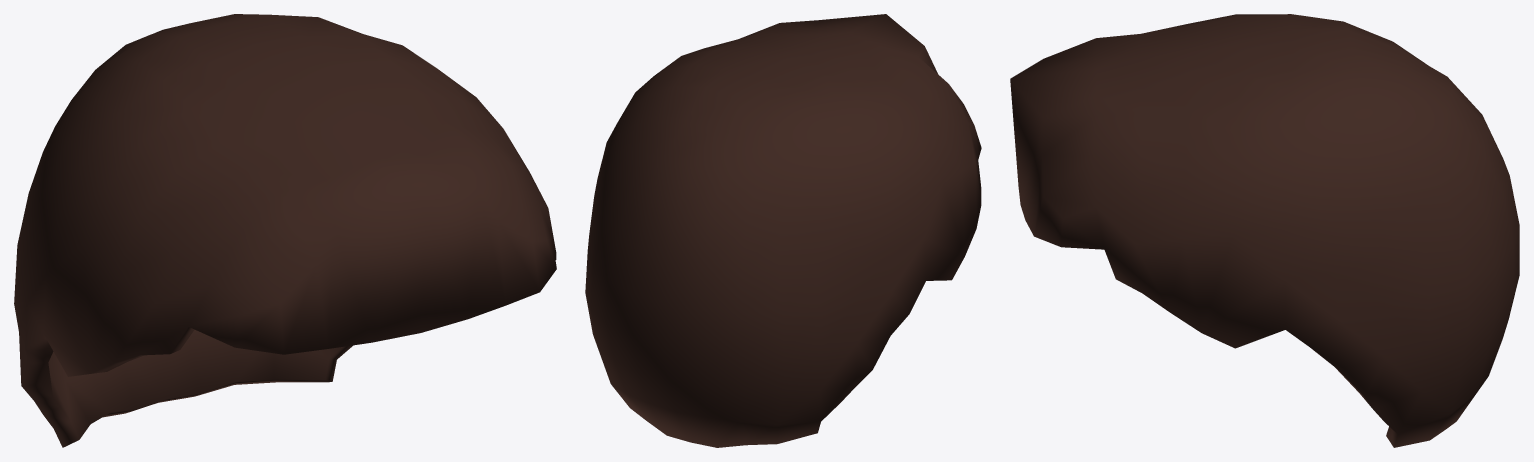
File: Hair09.fbx
3 renders of one model, left to right at view 1: azimuth 30°, elevation 25°; view 2: azimuth 150°, elevation 25°; view 3: azimuth 270°, elevation 25°, orthographic. The views are drawn at different scales.
Parts seen in each view (by area): view 1: Hair09; view 2: Hair09; view 3: Hair09.
Boxes of the visible parts, bbox=[...] form: Hair09: bbox=[14, 14, 556, 447]; Hair09: bbox=[585, 14, 981, 447]; Hair09: bbox=[1010, 14, 1519, 447].
Size of the model in its own units: 26.88 by 24.69 by 31.53.
